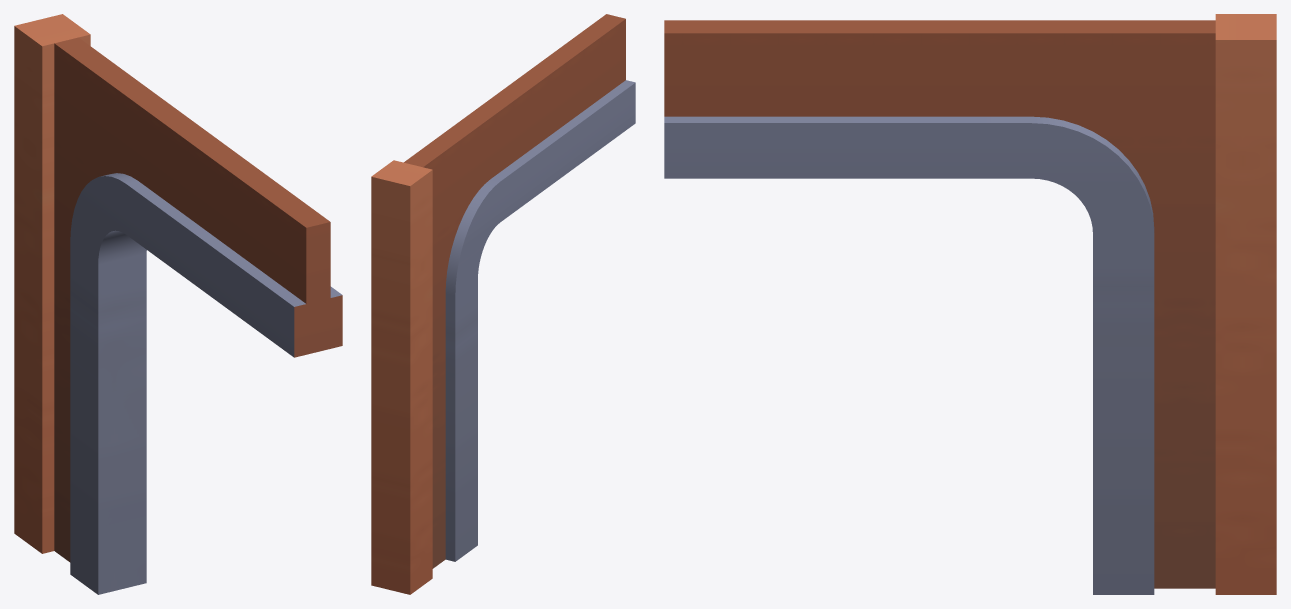
Rendered from wallWoodDoorwaySquareWideCurved.fbx.
3 renders of one model, left to right at view 1: azimuth 30°, elevation 25°; view 2: azimuth 150°, elevation 25°; view 3: azimuth 270°, elevation 25°, orthographic. The views are drawn at different scales.
Parts seen in each view (by area): view 1: wallWoodDoorwaySquareWideCurved; view 2: wallWoodDoorwaySquareWideCurved; view 3: wallWoodDoorwaySquareWideCurved.
Boxes of the visible parts, x1,y1,x2,y2 form: wallWoodDoorwaySquareWideCurved: (14,14,342,594); wallWoodDoorwaySquareWideCurved: (371,14,635,594); wallWoodDoorwaySquareWideCurved: (664,14,1276,594).
Size of the model in its own units: 0.1 by 1 by 1.
